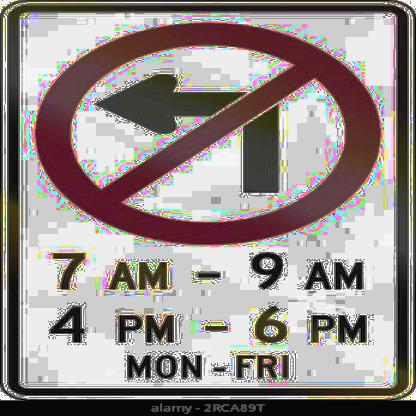No left turn: (31, 19, 386, 249)
